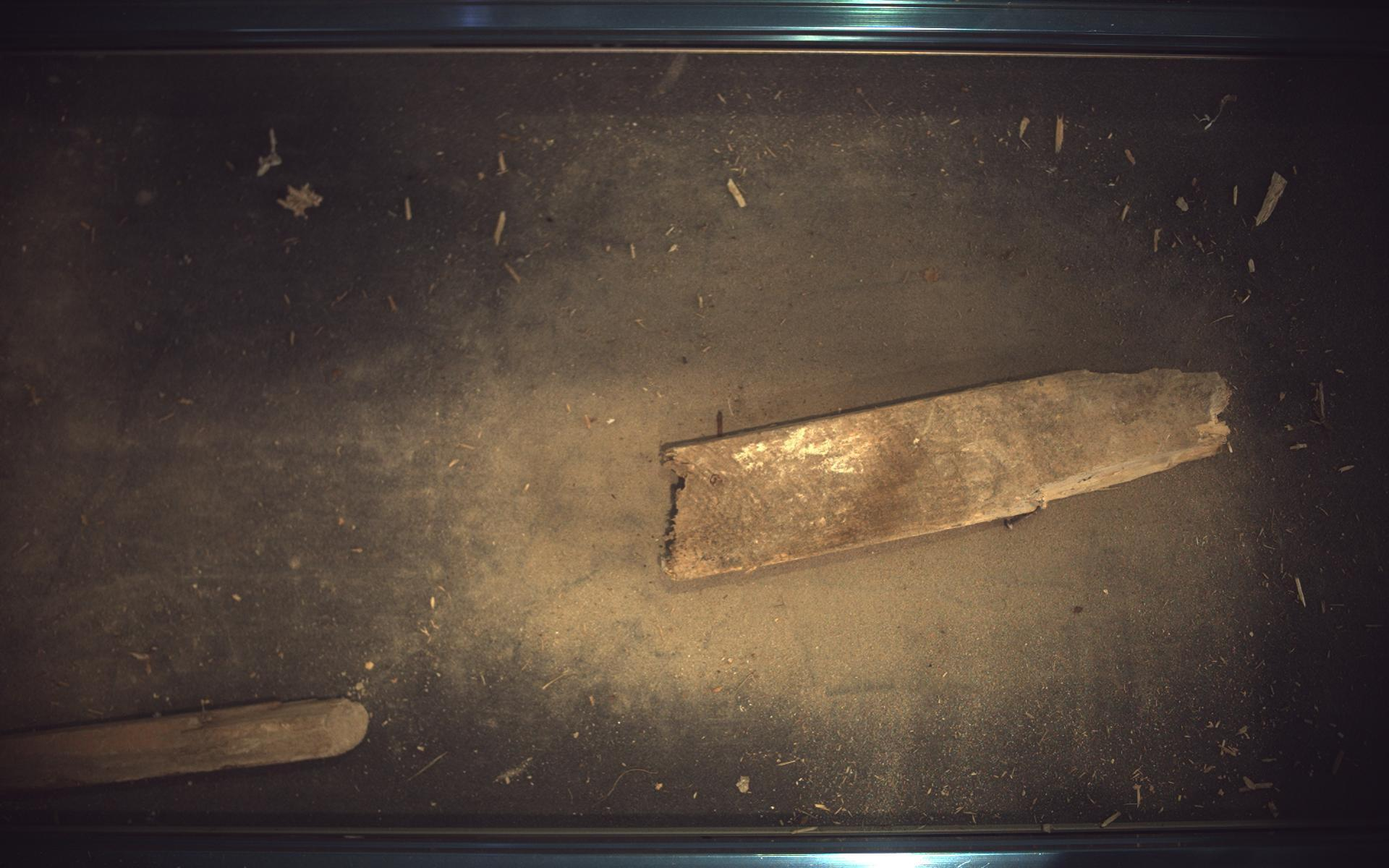wood: (663, 368, 1233, 581)
